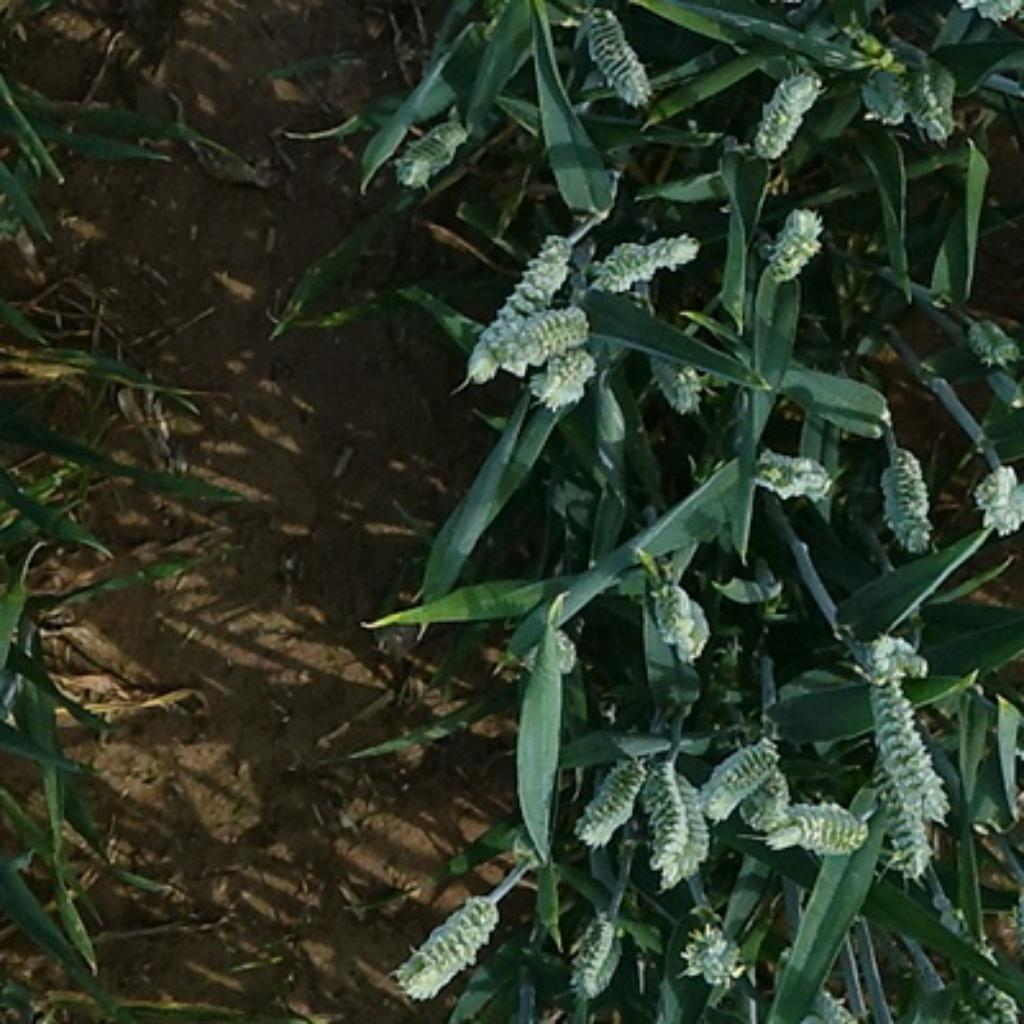0-0: (453, 243, 588, 399), (857, 660, 957, 837), (857, 752, 965, 883), (390, 891, 505, 1005), (927, 903, 1017, 1023), (563, 0, 660, 104), (739, 58, 829, 163), (563, 750, 660, 844), (640, 765, 716, 883), (391, 99, 483, 192), (691, 732, 785, 821), (750, 791, 870, 860), (637, 565, 721, 663), (588, 222, 709, 289), (496, 307, 609, 378), (870, 432, 934, 555), (752, 192, 834, 284), (494, 232, 578, 317), (565, 901, 632, 1003), (524, 327, 604, 409), (744, 437, 839, 506), (842, 624, 934, 686), (673, 916, 747, 990), (855, 51, 913, 140), (634, 348, 709, 414), (967, 450, 1024, 535), (742, 752, 796, 837), (952, 309, 1024, 366), (784, 982, 879, 1024), (913, 61, 962, 138), (522, 629, 580, 680)
